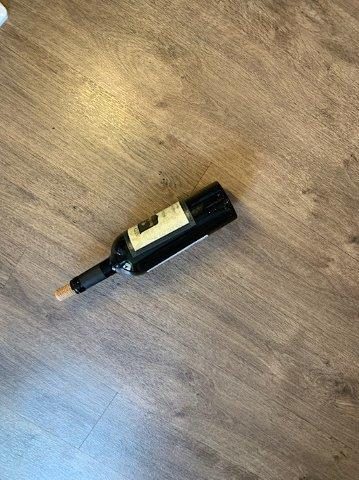botolkaca: (57, 182, 236, 300)
